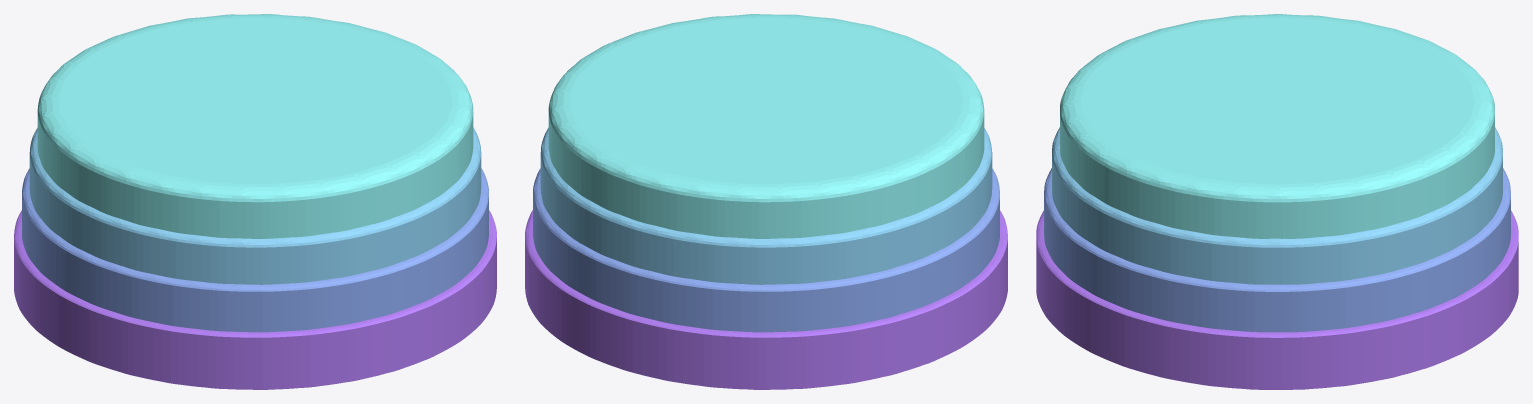
Rendered from bolocilindro cobertura neon AZUL.glb.
The picture shows the model from 3 angles, left to right: view 1: azimuth 30°, elevation 25°; view 2: azimuth 150°, elevation 25°; view 3: azimuth 270°, elevation 25°; orthographic projection.
Parts seen in each view (by area): view 1: Cylinder.002, Cylinder.005, Cylinder.004, Cylinder.003; view 2: Cylinder.002, Cylinder.005, Cylinder.004, Cylinder.003; view 3: Cylinder.002, Cylinder.005, Cylinder.004, Cylinder.003.
Part boxes in pixels (x1,y1,x2,y2): Cylinder.002: (37,14,473,238); Cylinder.005: (14,210,496,389); Cylinder.004: (22,168,488,332); Cylinder.003: (29,127,481,284); Cylinder.002: (548,14,984,238); Cylinder.005: (525,210,1007,389); Cylinder.004: (533,168,999,332); Cylinder.003: (540,127,992,284); Cylinder.002: (1060,14,1494,238); Cylinder.005: (1036,210,1518,389); Cylinder.004: (1044,168,1510,332); Cylinder.003: (1052,127,1502,284).
Size of the model in its own units: 3.04 by 1.32 by 3.04.
